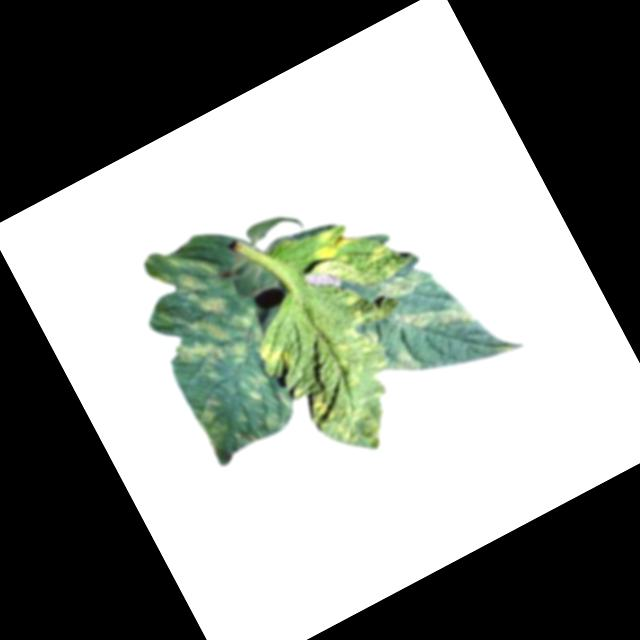Leaf_Mold: (133, 224, 270, 385), (278, 320, 419, 470), (210, 364, 301, 452), (388, 280, 476, 355), (304, 214, 368, 273), (366, 257, 431, 312), (183, 396, 239, 459), (255, 335, 295, 375)
